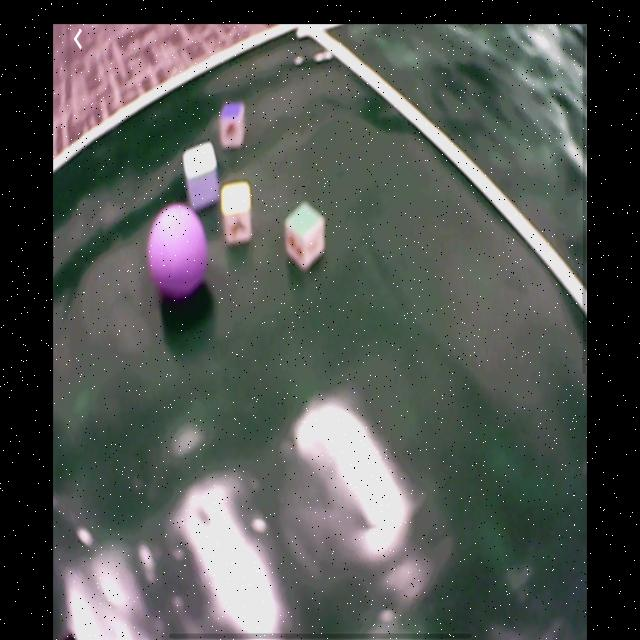ball: (147, 203, 209, 302)
